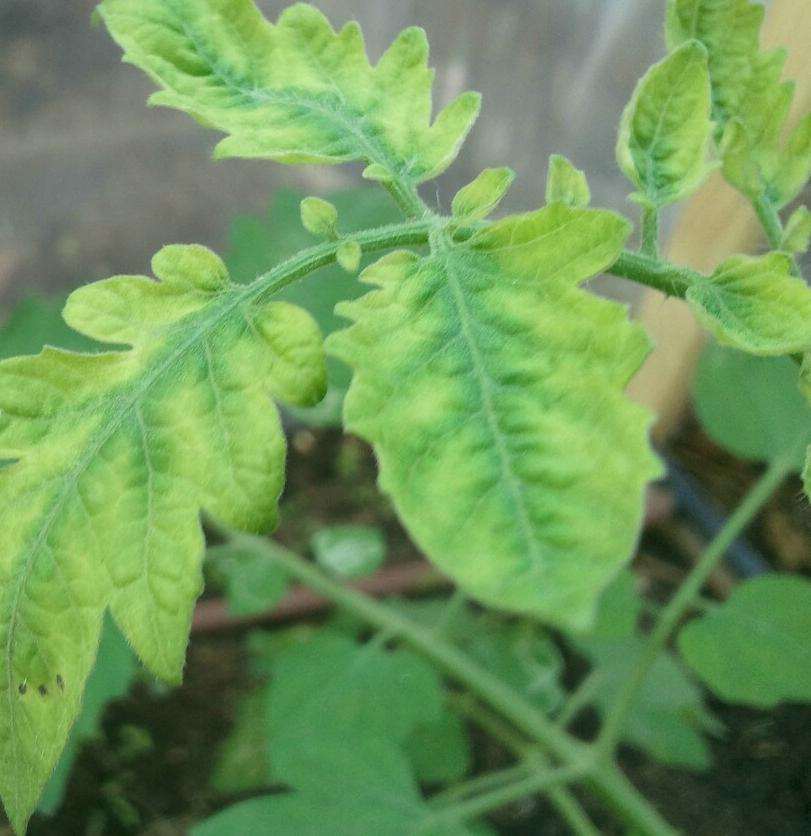Tomato leaf yellow virus: (0, 233, 324, 836), (347, 221, 679, 691), (39, 0, 472, 204), (652, 0, 811, 195), (607, 30, 709, 208)
